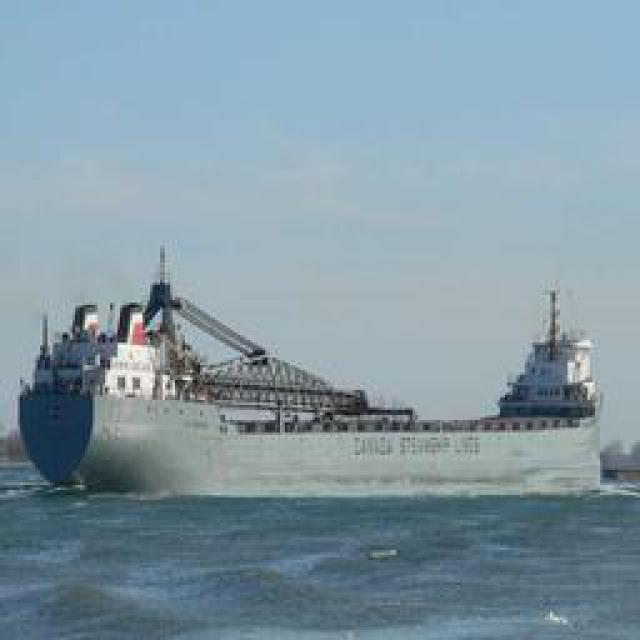Ship: (25, 242, 590, 495)
